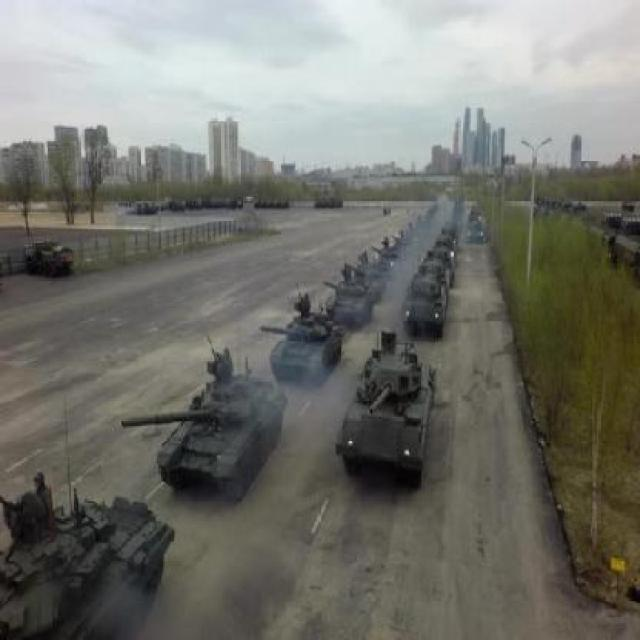Tanks: (0, 458, 172, 638), (122, 346, 290, 517), (338, 338, 439, 498), (260, 292, 346, 398), (322, 267, 378, 330), (402, 275, 448, 339), (420, 254, 451, 288), (369, 242, 397, 272)
